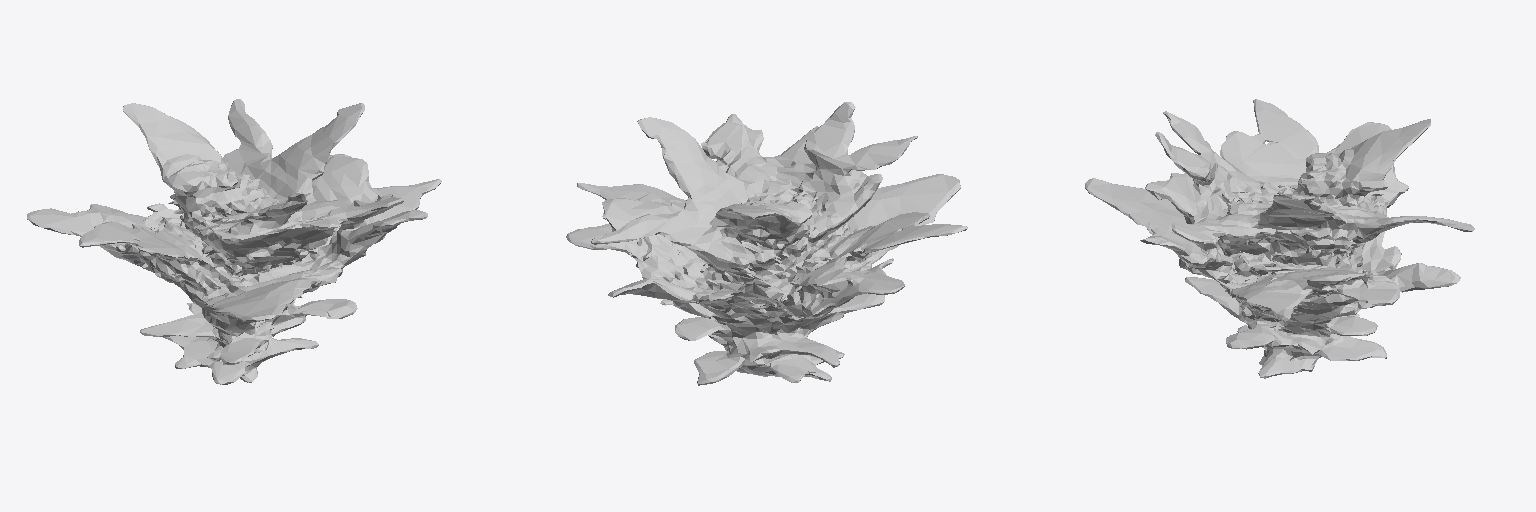
The model's file is 9a0073850b89_a_small_purple_fern.obj.
The picture shows the model from 3 angles: view 1: azimuth 30°, elevation 25°; view 2: azimuth 150°, elevation 25°; view 3: azimuth 270°, elevation 25°; orthographic projection.
Visible parts, largest first — view 1: mesh; view 2: mesh; view 3: mesh.
Boxes of the visible parts, x1,y1,x2,y2 form: mesh: [27, 99, 441, 384]; mesh: [566, 102, 967, 385]; mesh: [1085, 99, 1474, 378].
Size of the model in its own units: 1 by 0.5897 by 0.9002.